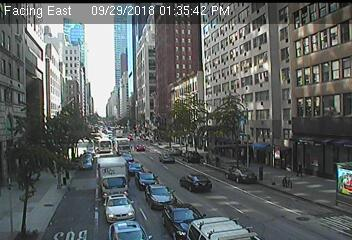car: (161, 203, 209, 240), (187, 217, 263, 240), (96, 156, 130, 198), (103, 195, 138, 223), (108, 221, 153, 240), (144, 185, 177, 208), (178, 173, 213, 192), (226, 167, 256, 184), (135, 171, 160, 190), (114, 138, 133, 157), (95, 136, 112, 154), (125, 161, 144, 175), (182, 151, 201, 164), (159, 153, 175, 164), (78, 158, 92, 170), (82, 152, 93, 163), (168, 148, 182, 156), (134, 144, 144, 153)
